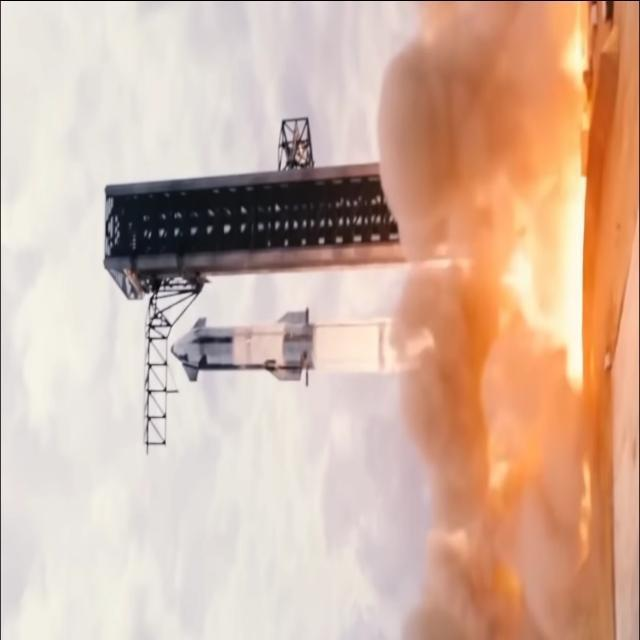missile: (170, 308, 447, 385)
